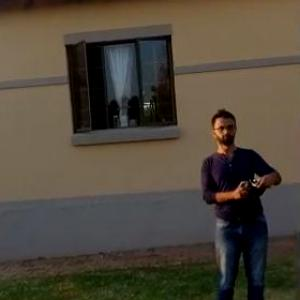follow: (193, 101, 283, 299)
